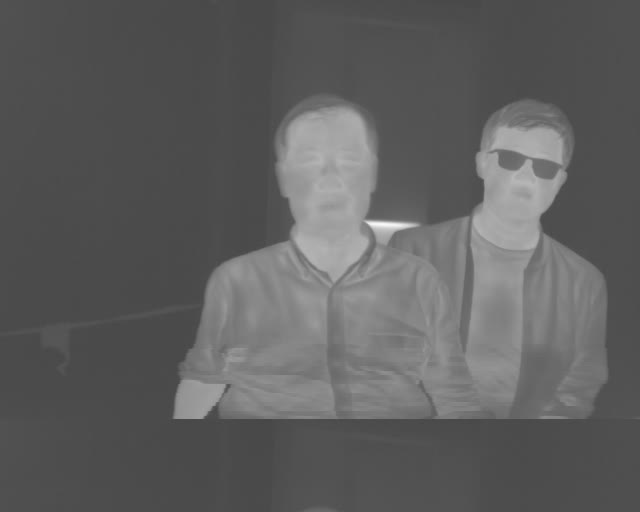face: (272, 92, 381, 241), (474, 97, 574, 223)
